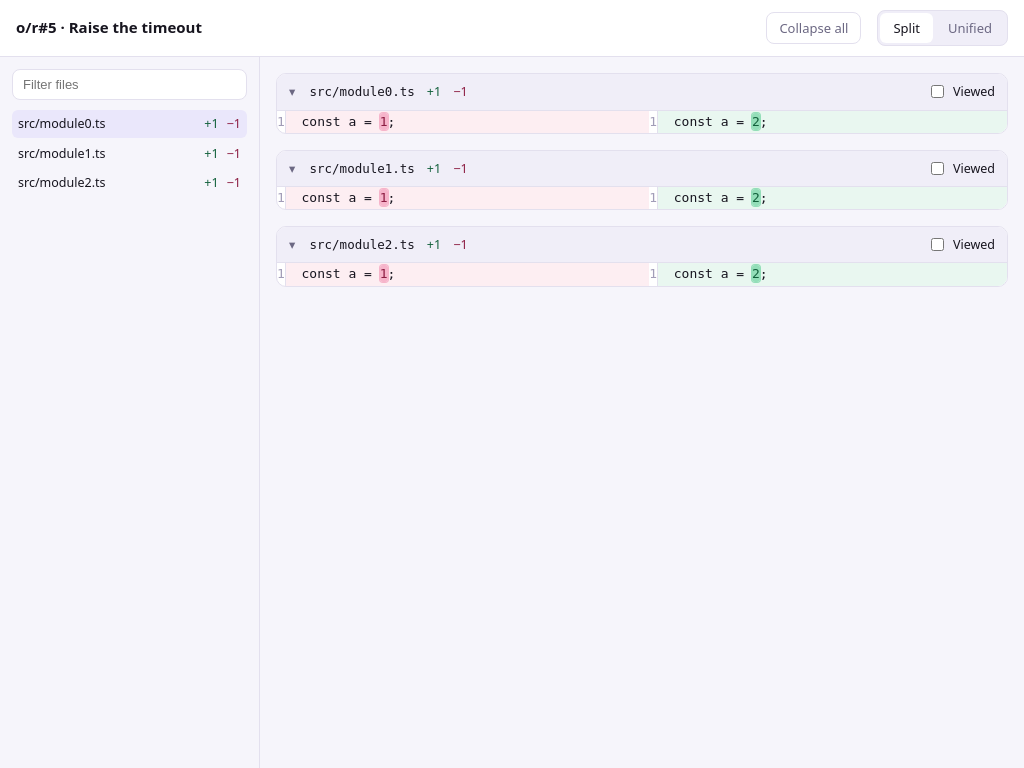
Test case: Review at or below the auto-expand cap › still lets a file be collapsed by hand
Expected: the number of tables with class "diff" is 3, [277,110,1007,133]; [277,187,1007,209]; [277,264,1007,286]
Click the button "▾ src/module0.ts".
click(352, 92)  # box [289,82,415,102]
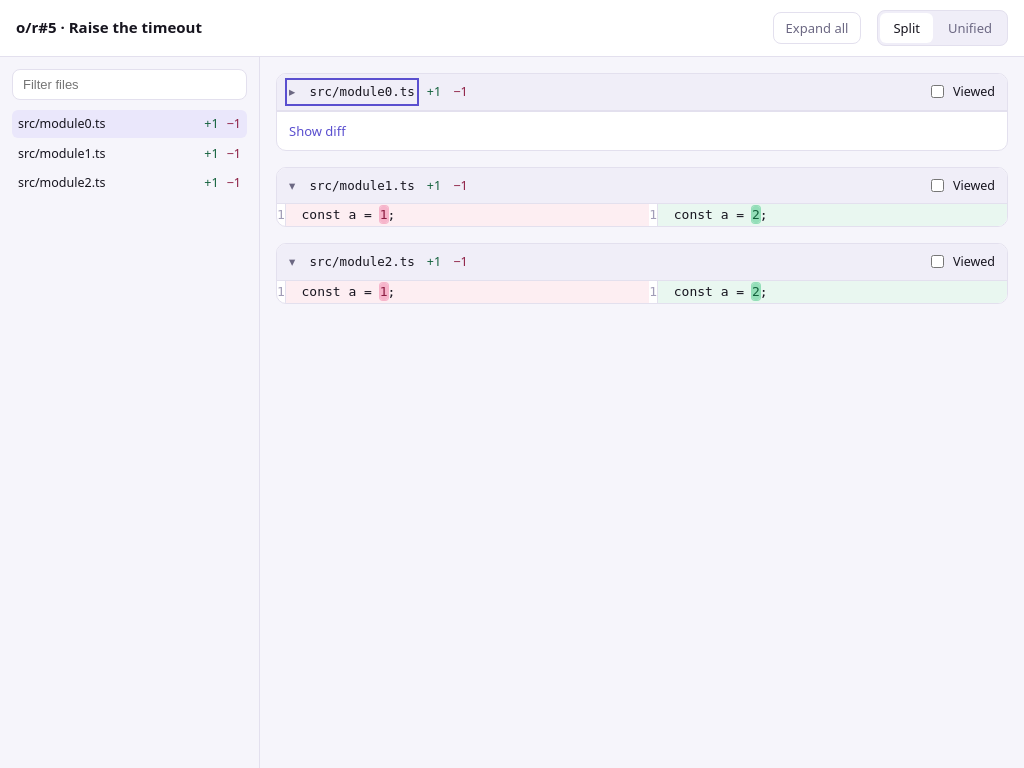
Result: the number of tables with class "diff" is 2 at [277,204,1007,226]; [277,280,1007,303]
